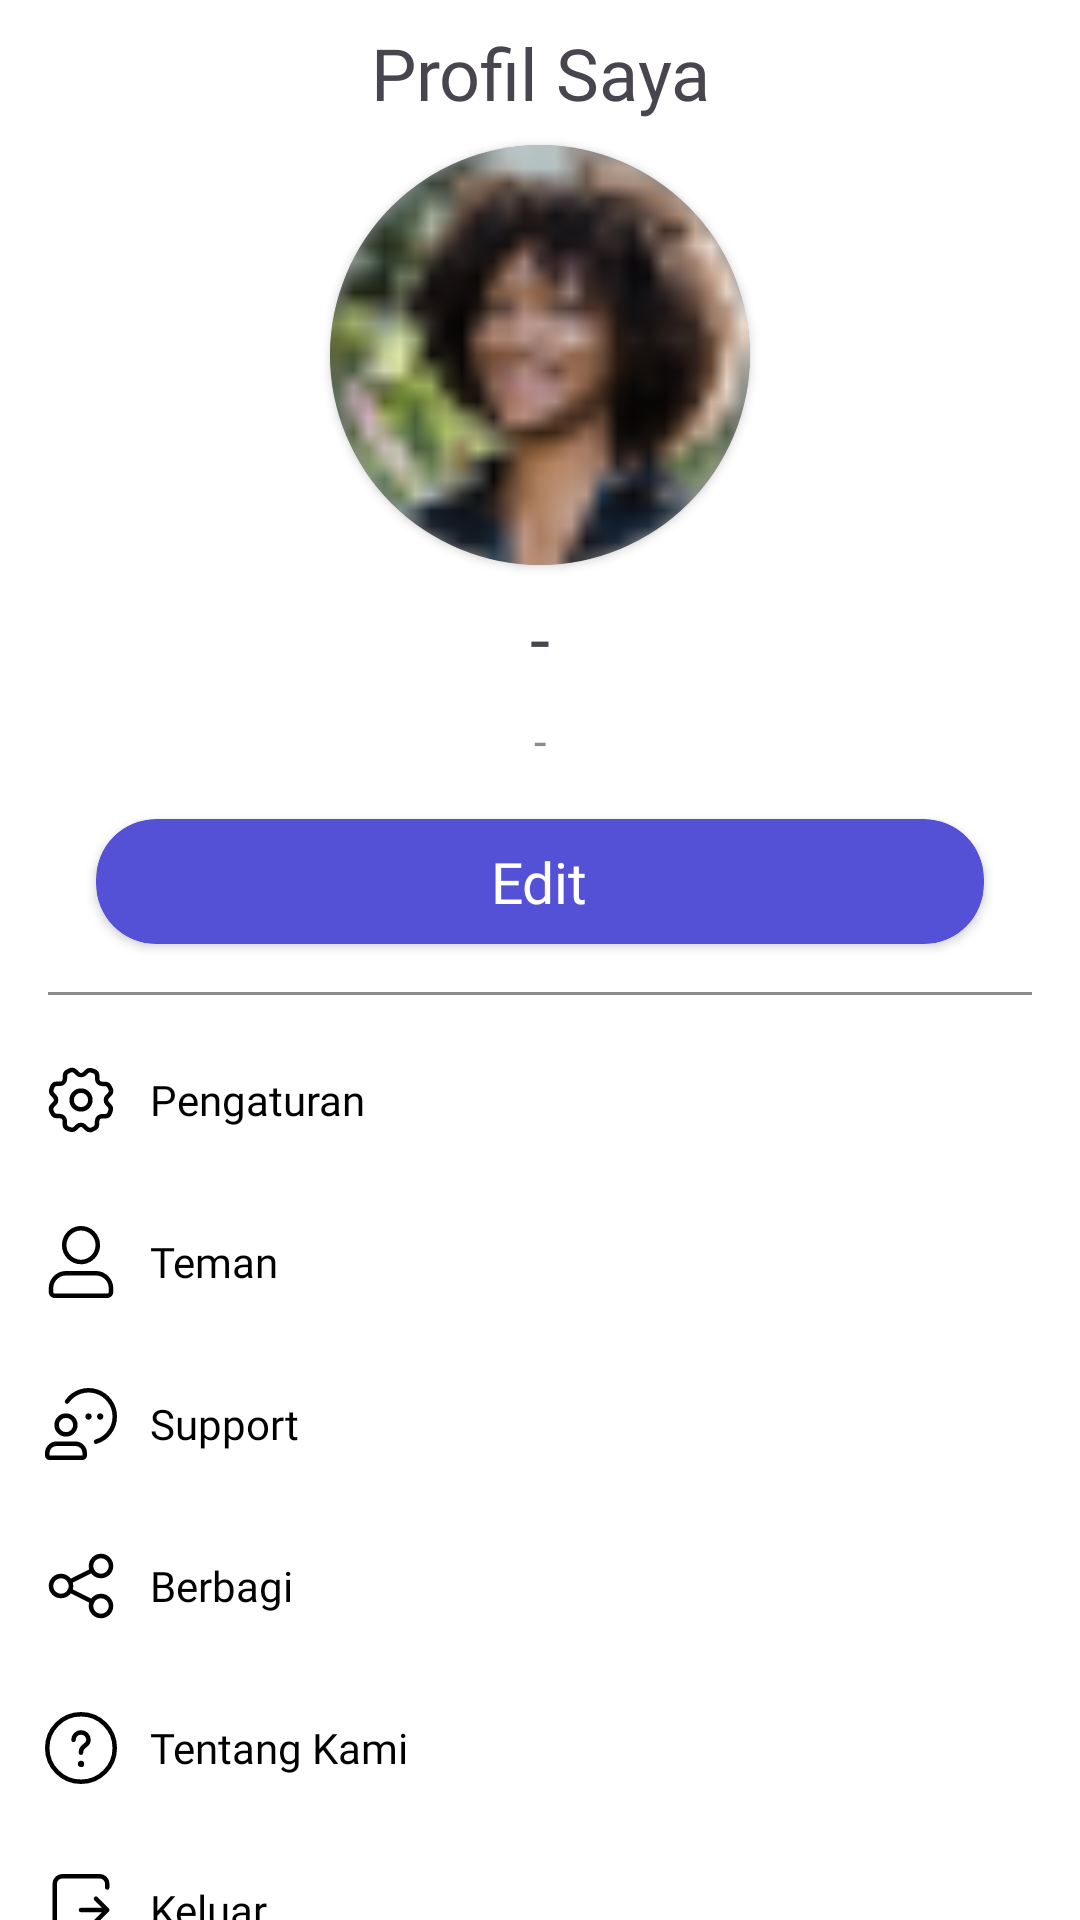

Screen size 1080x1920. Icon name, then its center in pixels as point (x, y):
about: point (81, 1748)
profile: point (81, 1262)
setting: point (81, 1100)
share: point (81, 1586)
